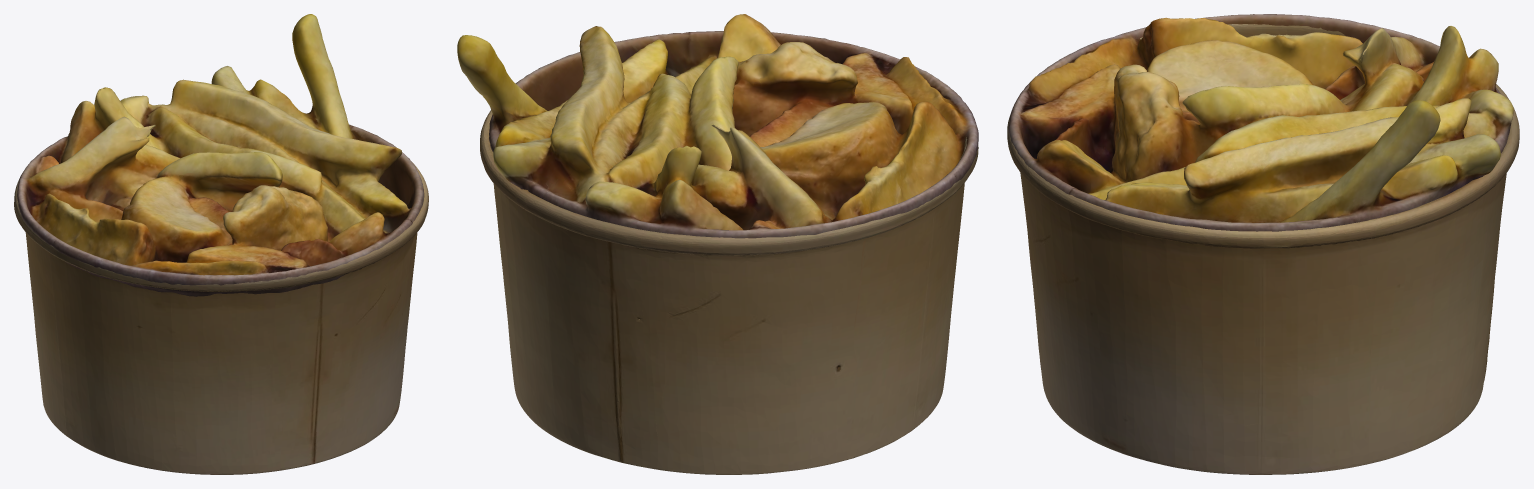
File: fries.glb
The picture shows the model from 3 angles, left to right: view 1: azimuth 30°, elevation 25°; view 2: azimuth 150°, elevation 25°; view 3: azimuth 270°, elevation 25°; orthographic projection. The views are drawn at different scales.
Parts seen in each view (by area): view 1: world.001, 3DModel.001; view 2: world.001, 3DModel.001; view 3: world.001, 3DModel.001.
Part boxes in pixels (x1=…): world.001: x1=14, y1=162, x2=428, y2=474; 3DModel.001: x1=17, y1=14, x2=424, y2=296; world.001: x1=480, y1=110, x2=978, y2=474; 3DModel.001: x1=457, y1=14, x2=978, y2=238; world.001: x1=1007, y1=24, x2=1519, y2=474; 3DModel.001: x1=1008, y1=14, x2=1513, y2=231.
Bounding box in the file's own units: 0.2167 × 0.1737 × 0.2166.
Materials: 2 (2 with a texture image).
